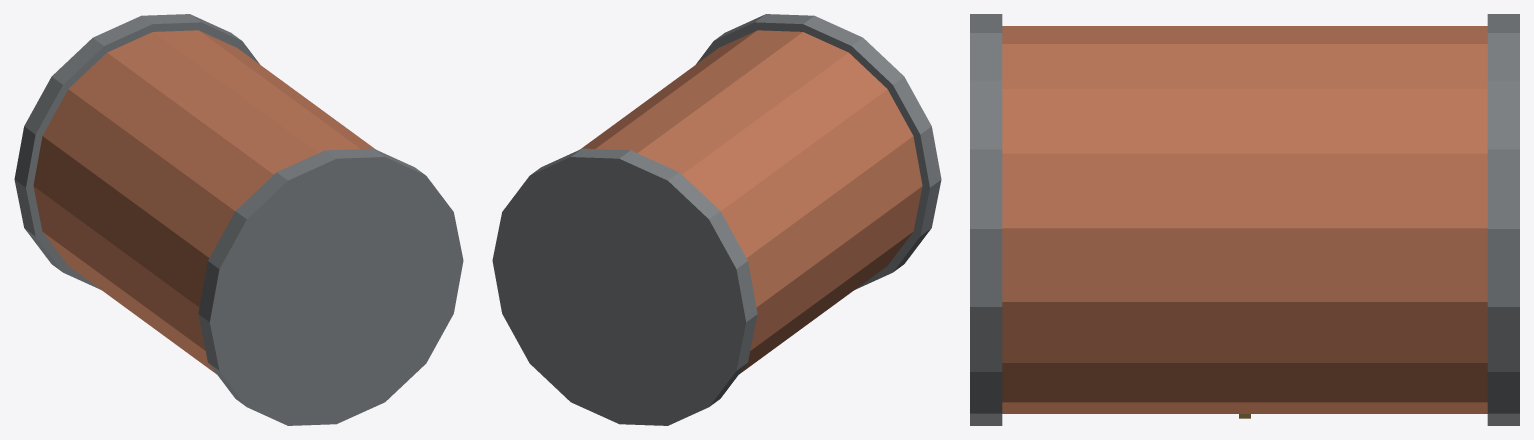
Rendered from fuel_barrel.glb.
3 renders of one model, left to right at view 1: azimuth 30°, elevation 25°; view 2: azimuth 150°, elevation 25°; view 3: azimuth 270°, elevation 25°, orthographic. The views are drawn at different scales.
Visible parts, largest first — view 1: fuel_barrel_0, fuel_barrel_1, fuel_barrel_2; view 2: fuel_barrel_0, fuel_barrel_2, fuel_barrel_1; view 3: fuel_barrel_0, fuel_barrel_1, fuel_barrel_2.
Boxes of the visible parts, left/top/right/bottom form: fuel_barrel_0: left=33, top=30, right=375, bottom=374; fuel_barrel_1: left=198, top=148, right=463, bottom=425; fuel_barrel_2: left=14, top=14, right=259, bottom=289; fuel_barrel_0: left=580, top=30, right=922, bottom=374; fuel_barrel_2: left=492, top=148, right=757, bottom=425; fuel_barrel_1: left=696, top=14, right=941, bottom=289; fuel_barrel_0: left=1002, top=26, right=1487, bottom=413; fuel_barrel_1: left=970, top=14, right=1002, bottom=425; fuel_barrel_2: left=1487, top=14, right=1519, bottom=425.
Size of the model in its own units: 1.02 by 1.05 by 1.36.
